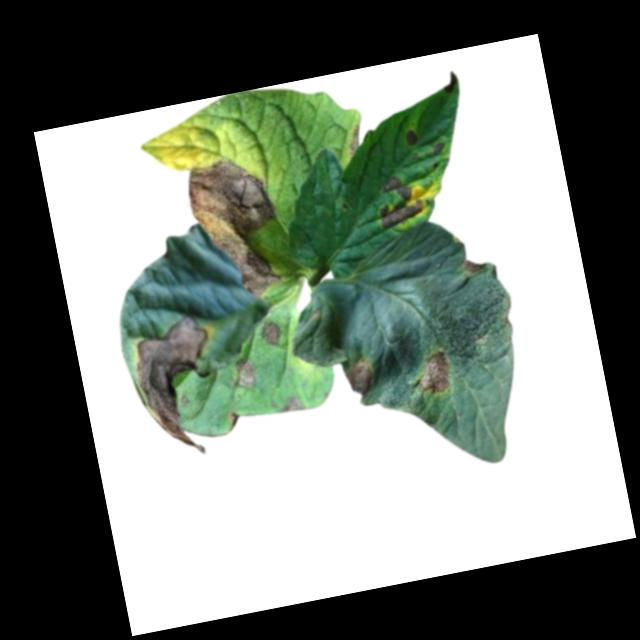Early_blight: (181, 152, 284, 311), (126, 313, 229, 466), (370, 170, 428, 234), (411, 349, 455, 398), (344, 354, 380, 400), (228, 356, 258, 392), (345, 124, 365, 159), (461, 256, 489, 280), (261, 319, 283, 349), (278, 395, 305, 416), (442, 69, 461, 95), (404, 126, 420, 148), (226, 410, 243, 429), (431, 141, 446, 155)
